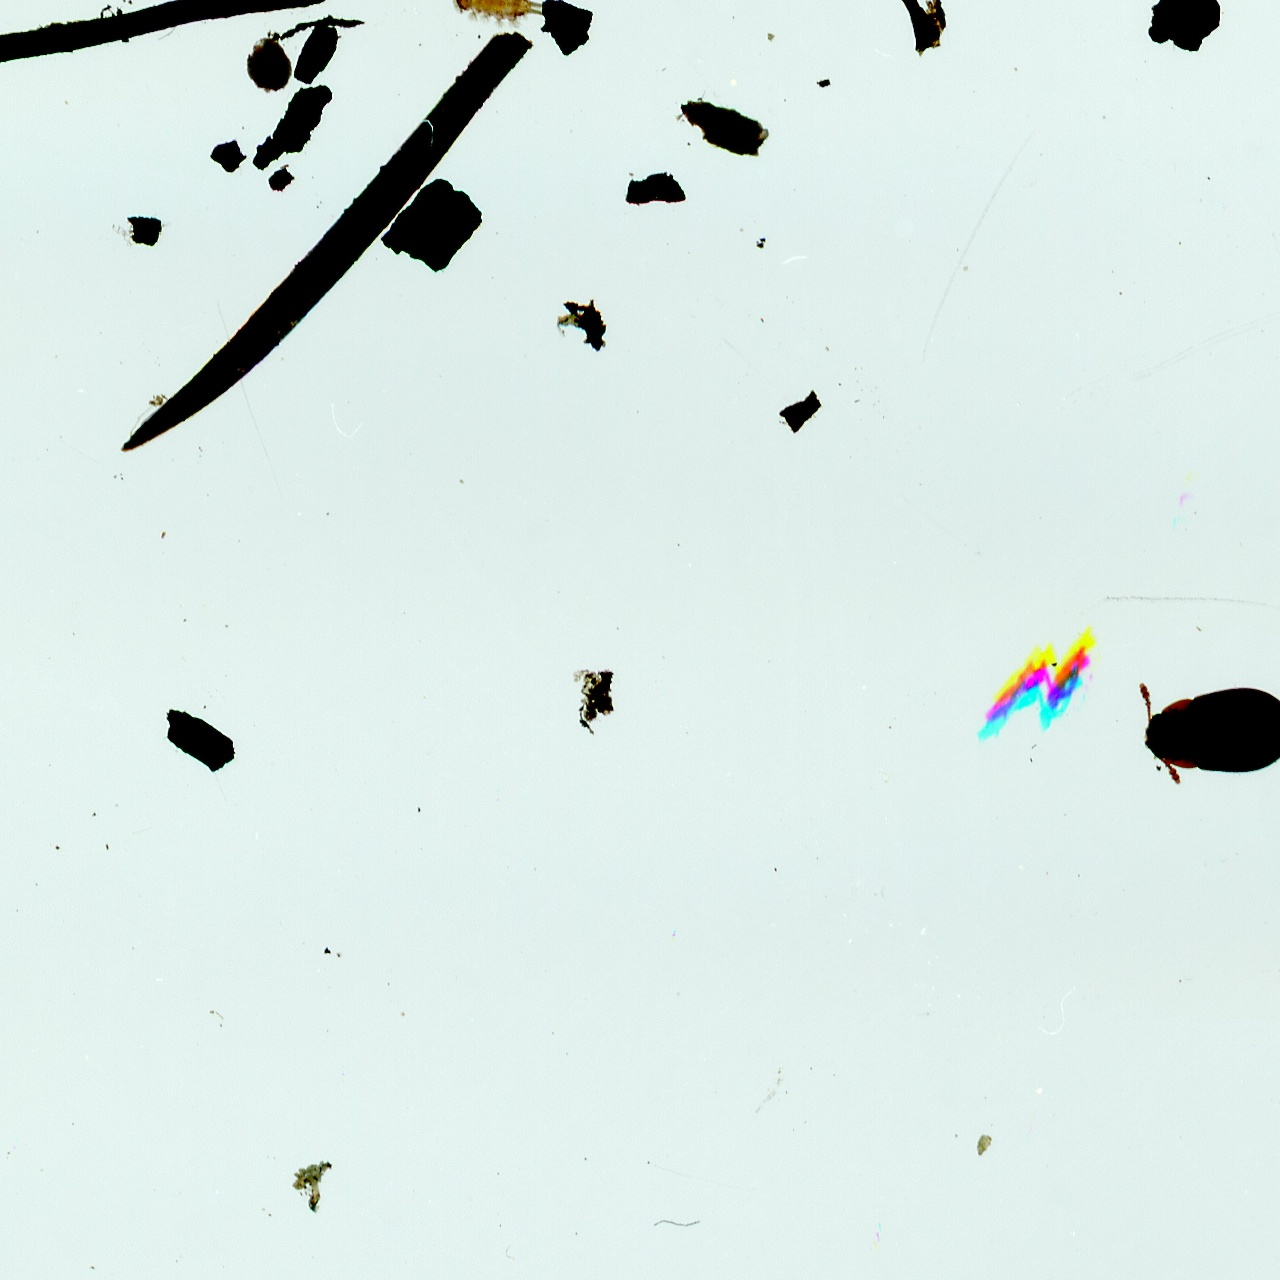arthropod: (1131, 670, 1280, 799), (449, 0, 550, 27)
